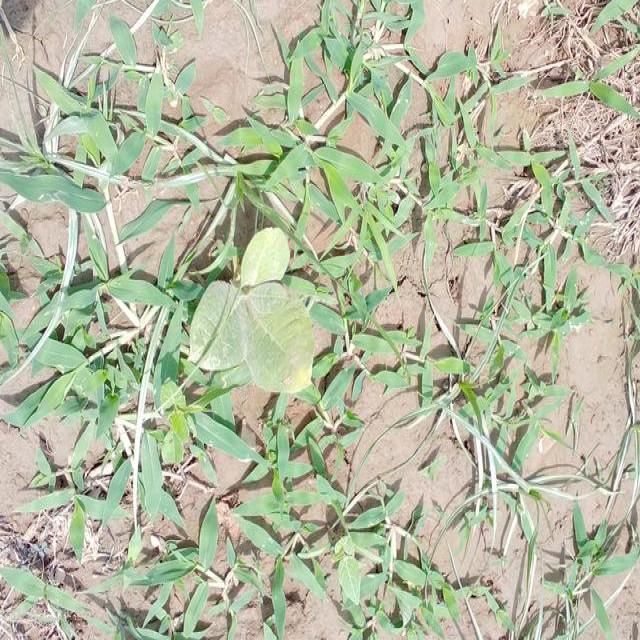crop: (196, 239, 315, 398)
